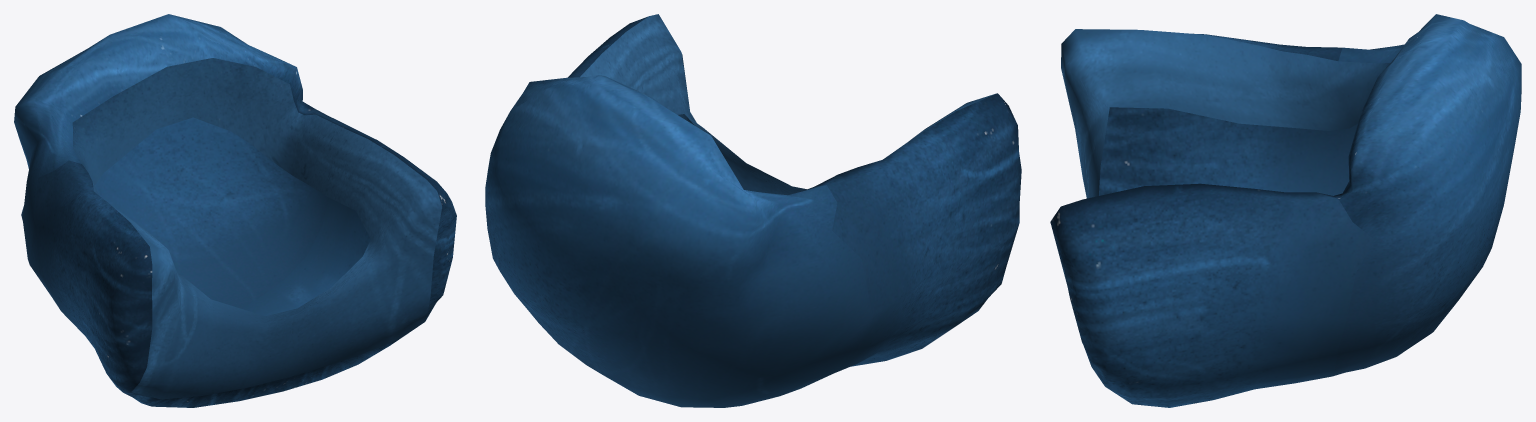
File: hair_andressa.dae
The picture shows the model from 3 angles, left to right: view 1: azimuth 30°, elevation 25°; view 2: azimuth 150°, elevation 25°; view 3: azimuth 270°, elevation 25°; orthographic projection. The views are drawn at different scales.
Visible parts, largest first — view 1: hair; view 2: hair; view 3: hair.
Boxes of the visible parts, x1,y1,x2,y2 form: hair: (14, 14, 456, 407); hair: (485, 14, 1021, 407); hair: (1050, 14, 1521, 407).
Size of the model in its own units: 103 by 83.81 by 102.
Materials: 1 (1 with a texture image).
